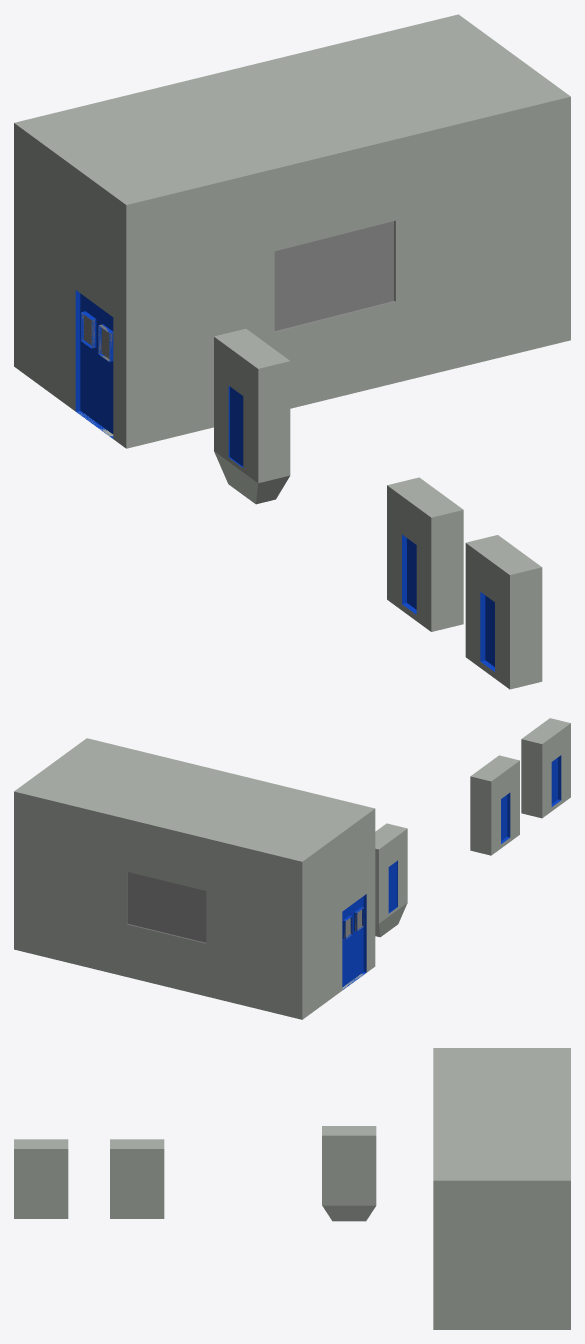
File: 小房子.fbx
The picture shows the model from 3 angles, top to bottom: view 1: azimuth 30°, elevation 25°; view 2: azimuth 150°, elevation 25°; view 3: azimuth 270°, elevation 25°; orthographic projection. The views are drawn at different scales.
Parts seen in each view (by area): view 1: Box001, Box002, Box004, Box003; view 2: Box001, Box004, Box003, Box002; view 3: Box001, Box002, Box003, Box004.
Boxes of the visible parts, box(x1,y1,x2,y2) form: Box001: box(14, 14, 570, 448); Box002: box(214, 328, 290, 504); Box004: box(465, 535, 542, 689); Box003: box(387, 477, 463, 631); Box001: box(14, 738, 375, 1019); Box004: box(521, 718, 570, 818); Box003: box(470, 755, 519, 855); Box002: box(375, 823, 407, 937); Box001: box(433, 1048, 570, 1329); Box002: box(322, 1126, 376, 1221); Box003: box(110, 1139, 164, 1218); Box004: box(14, 1139, 68, 1218).
Size of the model in its own units: 35.15 by 18.91 by 62.3.
